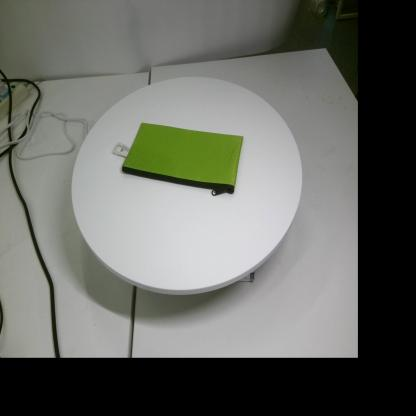Stationery: (114, 122, 243, 196)
